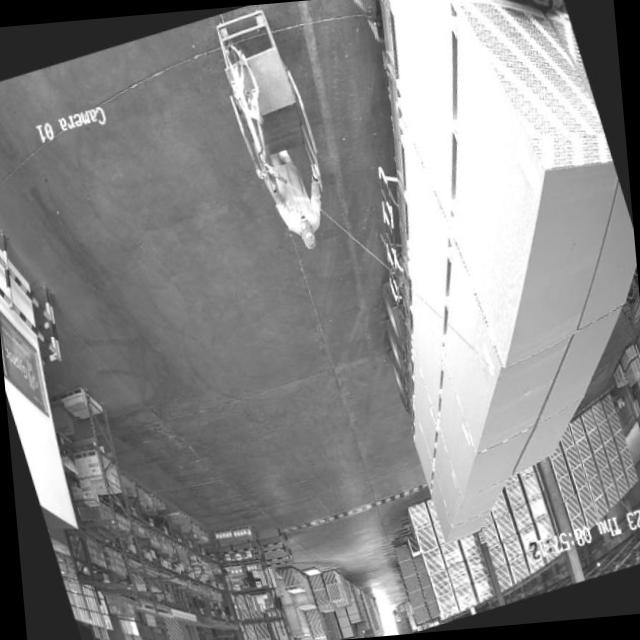person: (258, 141, 348, 266)
